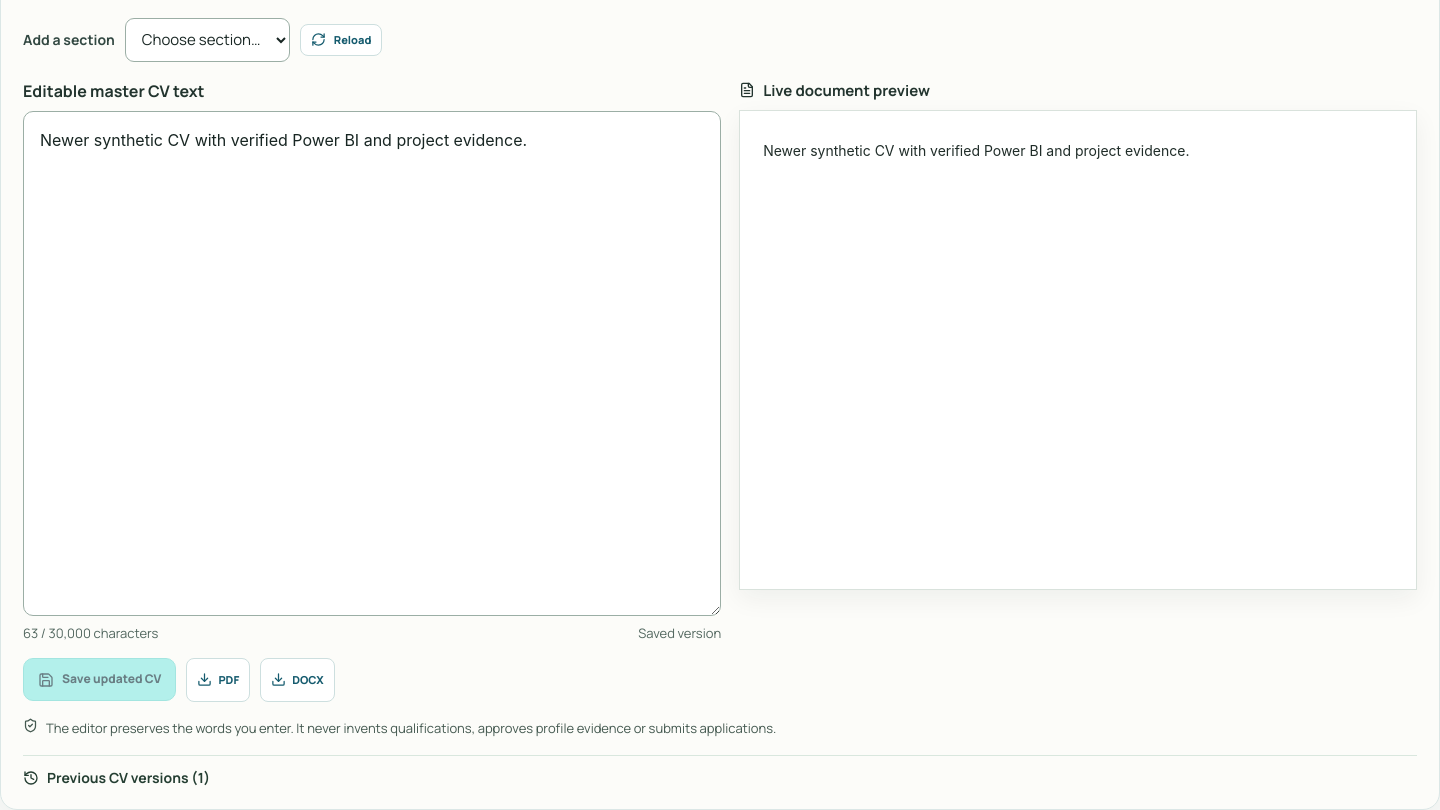
Test: SP82 applicant-controlled exact CV version restore › restores a selected archived CV only after confirmation with current SHA
The image size is (1440, 810).
(page scrolled)
Expected: the text box labelled "Editable master CV text" holds "Newer synthetic CV with verified Power BI and project evidence.", [23, 110, 721, 616]
Click the heading "Previous CV versions (1)": (117, 778) [23, 768, 210, 788]
(page scrolled)
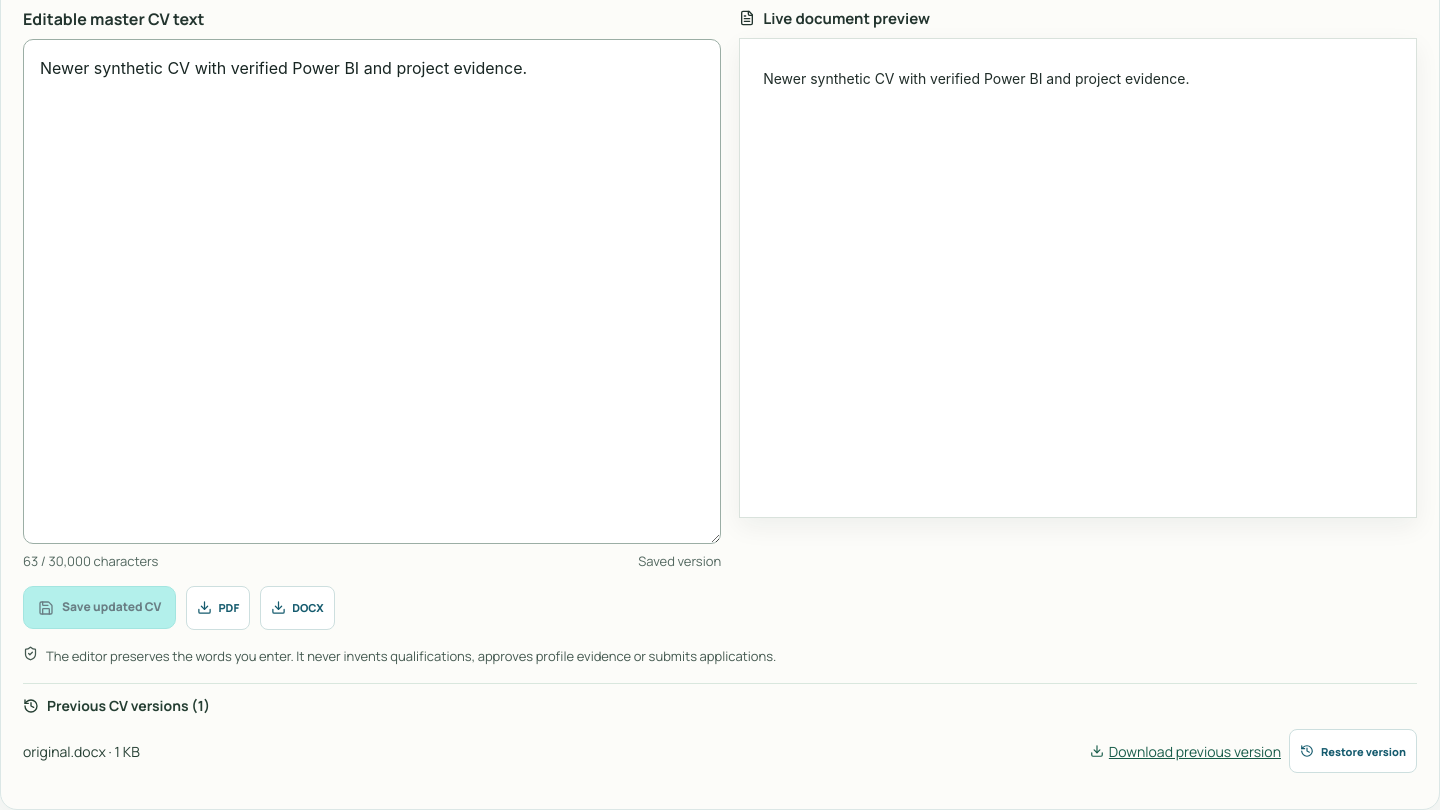
Click the button with aria-label "Restore version aaaaaaaa": (1353, 752) [1289, 730, 1417, 774]
(page scrolled)
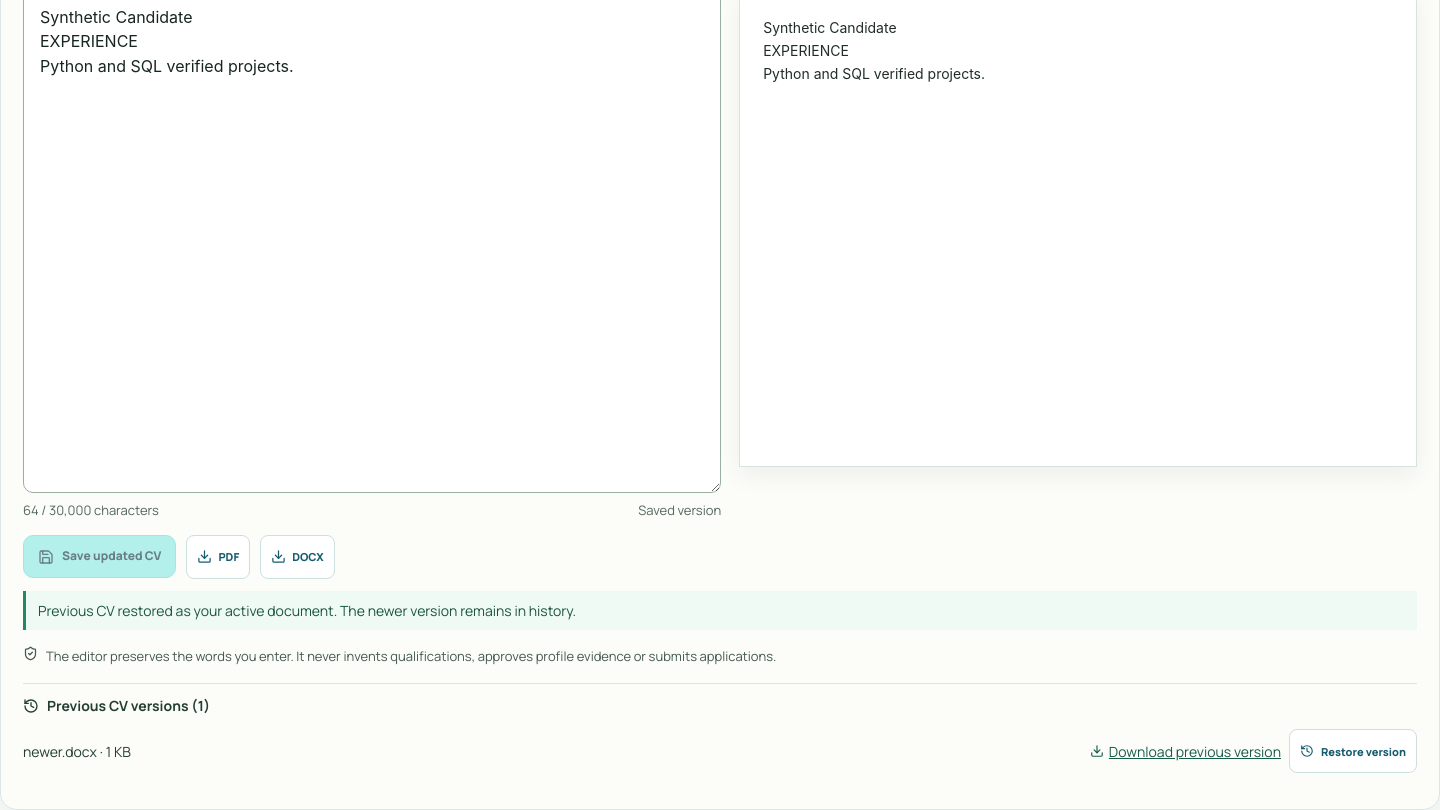
Now the element named "CV preview" shows "Python and SQL", box [763, 18, 985, 82]
Now the text "Previous CV restored as your active document" is shown, box [38, 601, 576, 620]
